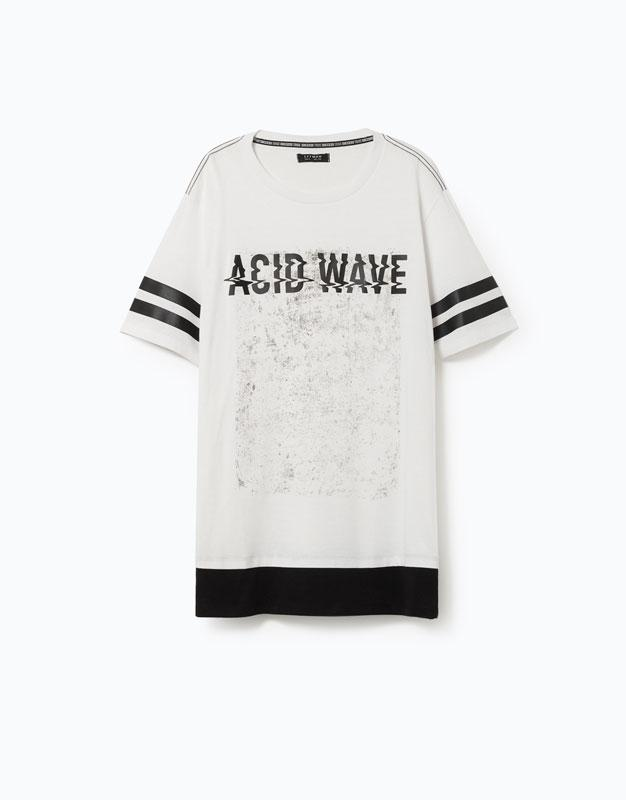teeshirt: (130, 122, 530, 691)
